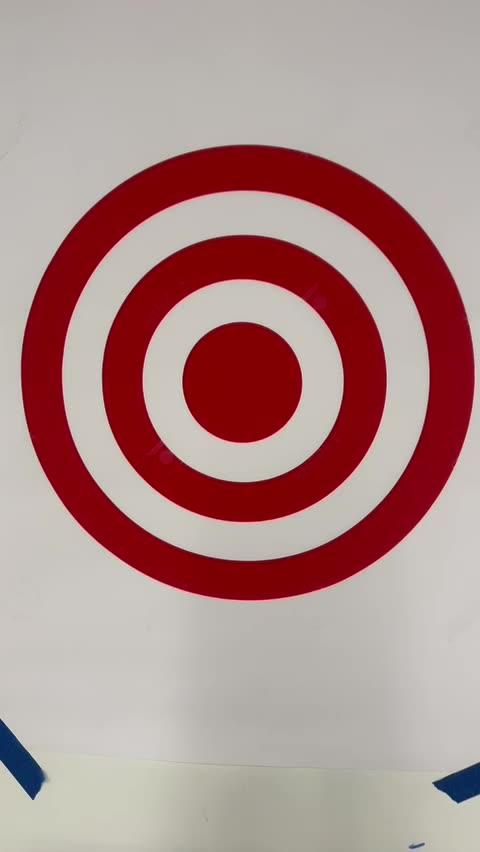target_red: (21, 145, 469, 594)
